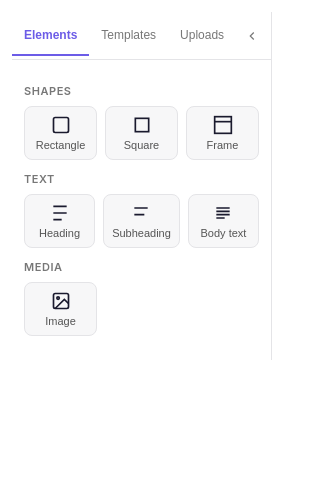
Scenario: LeftSidebar › switches to Templates tab
Click the button "Templates": (129, 36) [89,16,168,56]
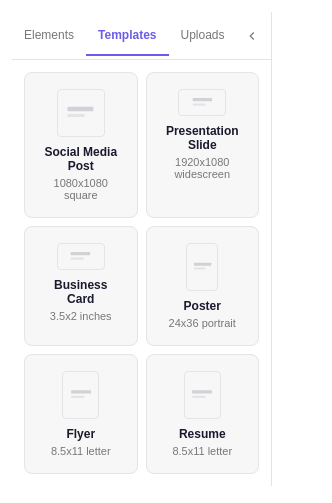
Expected: the text "Social Media Post" is shown, [41,145,120,173]
Expected: the text "Presentation Slide" is shown, [162,124,242,152]
Expected: the text "Business Card" is shown, [54,278,108,306]
